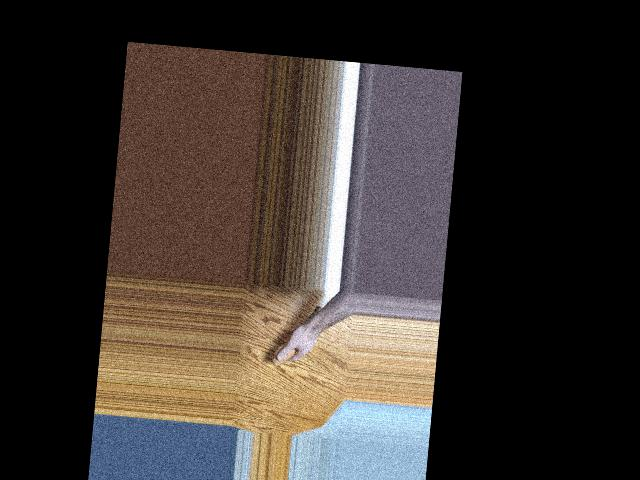sweet_potato: (271, 300, 323, 369)
